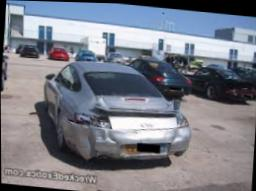Bumper: (62, 116, 191, 159)
Dickey: (90, 92, 181, 128)
Light: (62, 106, 113, 129)
